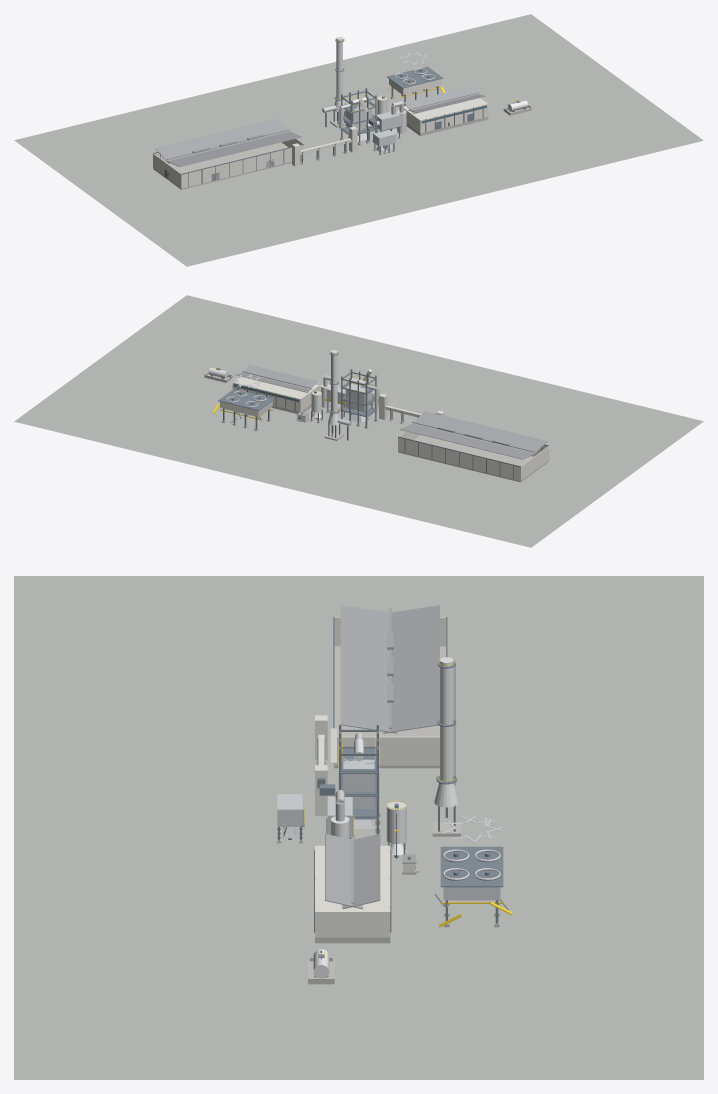
File: sts-site-v1.glb
3 renders of one model, top to bottom at view 1: azimuth 30°, elevation 25°; view 2: azimuth 150°, elevation 25°; view 3: azimuth 270°, elevation 25°, orthographic. The views are drawn at different scales.
Parts seen in each view (by area): view 1: Ground, BIO_Roof_N, BIO_Wall_S, TG_Mass, BIO_Roof_S, BIO_Base, TG_Roof_N, ACC_Deck, BIO_Wall_W, STACK_Barrel; view 2: Ground, BIO_Roof_S, BIO_Wall_N, TG_Mass, BIO_Roof_N, BIO_Base, TG_Roof_S, BOIL_Core, ACC_Deck, BIO_Wall_W, STACK_Barrel; view 3: Ground, BIO_Roof_S, BIO_Roof_N, TG_Mass, BIO_Wall_E, TG_Roof_N, TG_Roof_S, ACC_Deck, STACK_Barrel, BIO_Base, BOIL_Core, BAB_Chamber (+2 smaller).
Part boxes in pixels (x1,y1,x2,y2): Ground: [14, 14, 703, 266]; BIO_Roof_N: [155, 118, 289, 163]; BIO_Wall_S: [181, 145, 304, 188]; TG_Mass: [404, 98, 488, 133]; BIO_Roof_S: [166, 131, 301, 166]; BIO_Base: [153, 142, 303, 189]; TG_Roof_N: [404, 86, 478, 113]; ACC_Deck: [387, 66, 443, 88]; BIO_Wall_W: [153, 153, 181, 188]; STACK_Barrel: [336, 37, 342, 99]; Ground: [14, 295, 703, 547]; BIO_Roof_S: [412, 411, 547, 455]; BIO_Wall_N: [398, 437, 520, 480]; TG_Mass: [232, 377, 319, 411]; BIO_Roof_N: [400, 424, 536, 459]; BIO_Base: [398, 435, 548, 482]; TG_Roof_S: [242, 364, 316, 392]; BOIL_Core: [345, 383, 372, 412]; ACC_Deck: [218, 389, 274, 410]; BIO_Wall_W: [520, 446, 549, 480]; STACK_Barrel: [331, 350, 337, 412]; Ground: [14, 576, 703, 1079]; BIO_Roof_S: [340, 605, 397, 733]; BIO_Roof_N: [383, 605, 439, 733]; TG_Mass: [315, 845, 390, 937]; BIO_Wall_E: [334, 736, 439, 765]; TG_Roof_N: [342, 834, 380, 909]; TG_Roof_S: [325, 834, 362, 909]; ACC_Deck: [440, 846, 503, 887]; STACK_Barrel: [440, 657, 453, 781]; BIO_Base: [334, 646, 445, 768]; BOIL_Core: [343, 758, 374, 808]; BAB_Chamber: [277, 794, 302, 826].
Bounding box in the file's own units: 380 × 82.67 × 220.
